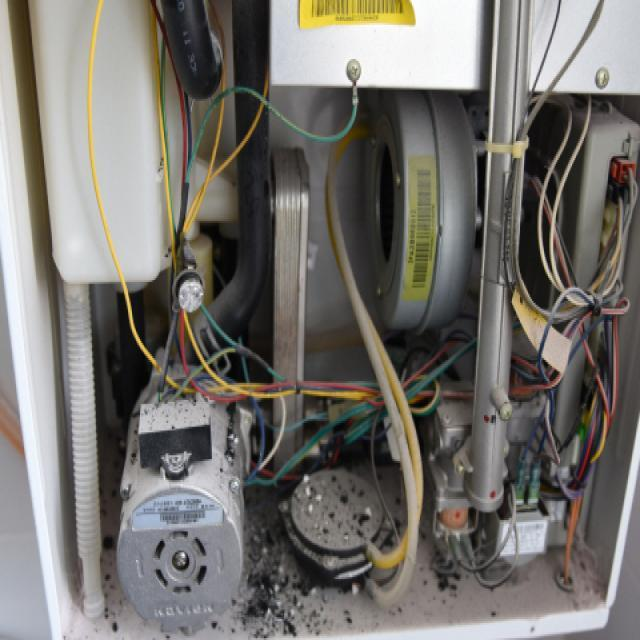Boiler: (22, 23, 640, 640)
